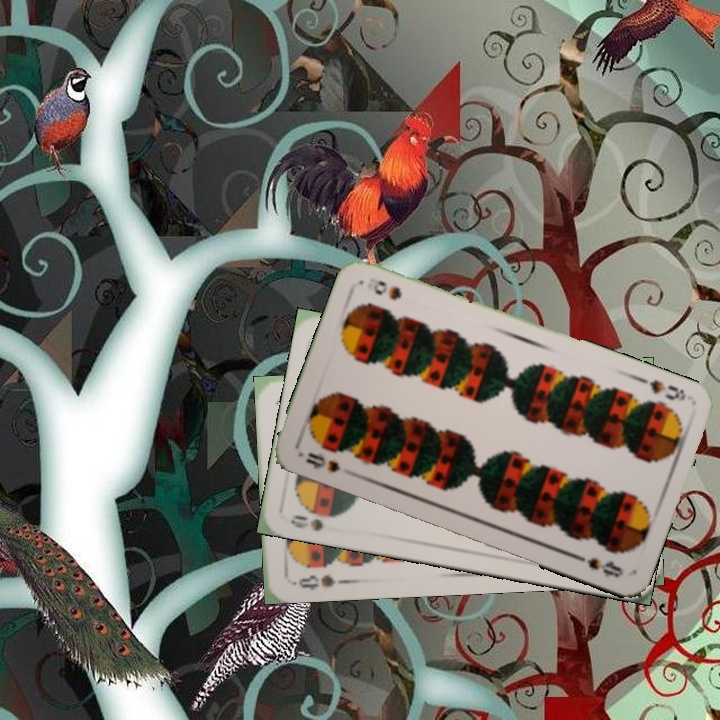S8: (634, 373, 689, 404), (301, 448, 343, 475), (288, 570, 337, 593)
SO: (286, 505, 344, 534)
